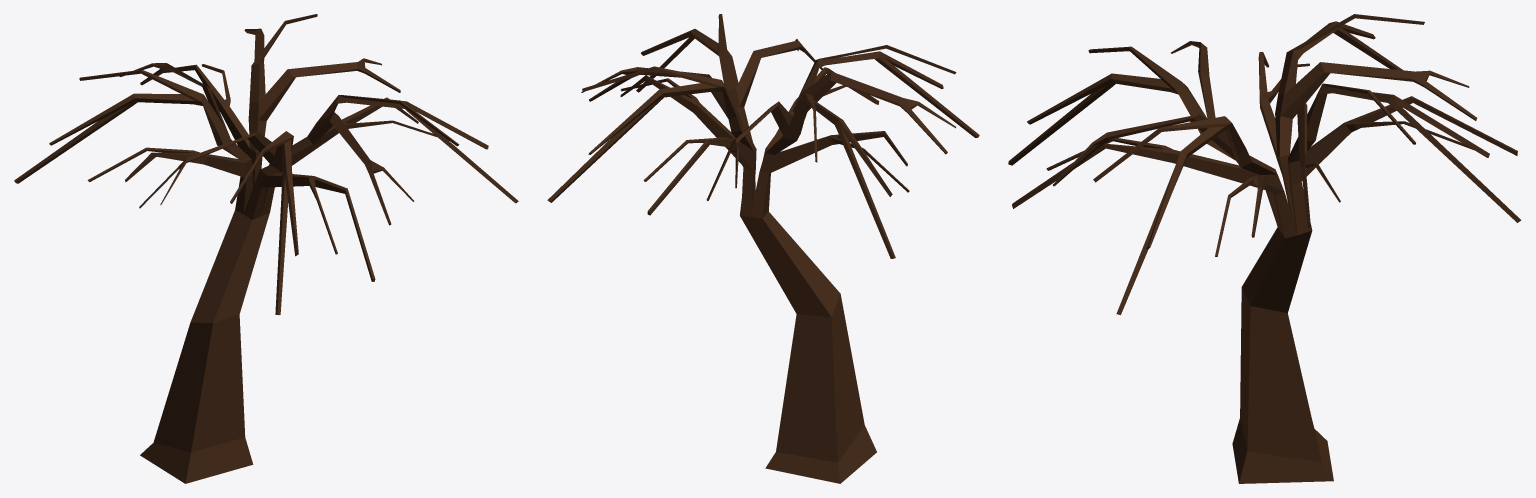
Rendered from treeobs.fbx.
The picture shows the model from 3 angles, left to right: view 1: azimuth 30°, elevation 25°; view 2: azimuth 150°, elevation 25°; view 3: azimuth 270°, elevation 25°; orthographic projection. The views are drawn at different scales.
Visible parts, largest first — view 1: Plane.001; view 2: Plane.001; view 3: Plane.001.
Part boxes in pixels (x1,y1,x2,y2): Plane.001: (14, 14, 518, 483); Plane.001: (547, 14, 979, 483); Plane.001: (1008, 14, 1521, 483).
Size of the model in its own units: 431 by 415 by 435.
